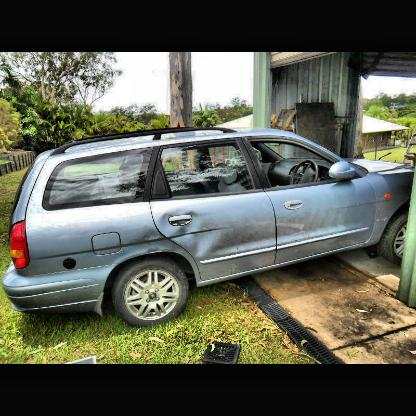Daewoo Nubira Wagon 2002: (3, 128, 416, 326)
